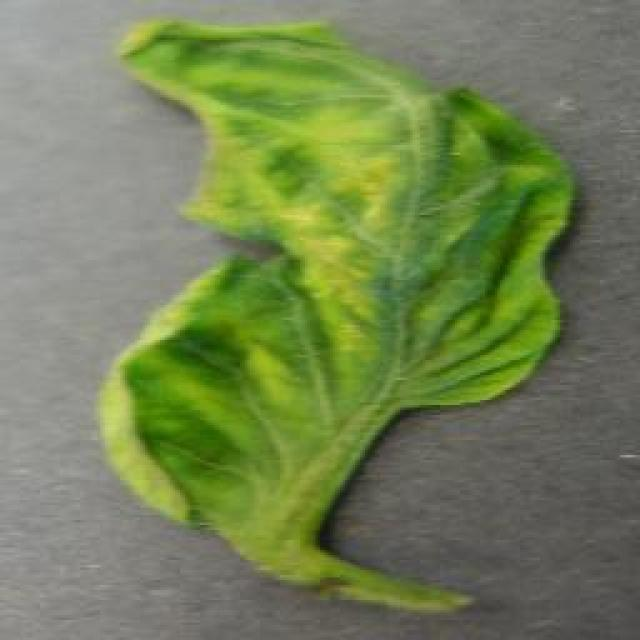Tomato yellow virus leaf: (108, 19, 572, 569)
